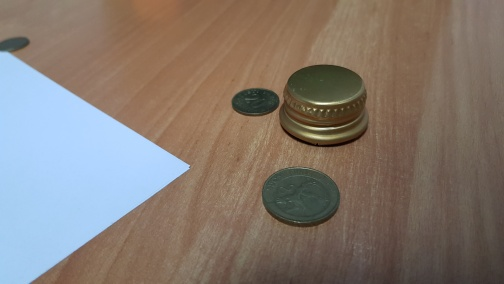coin: (262, 167, 341, 227), (231, 88, 280, 116), (1, 35, 30, 52)
